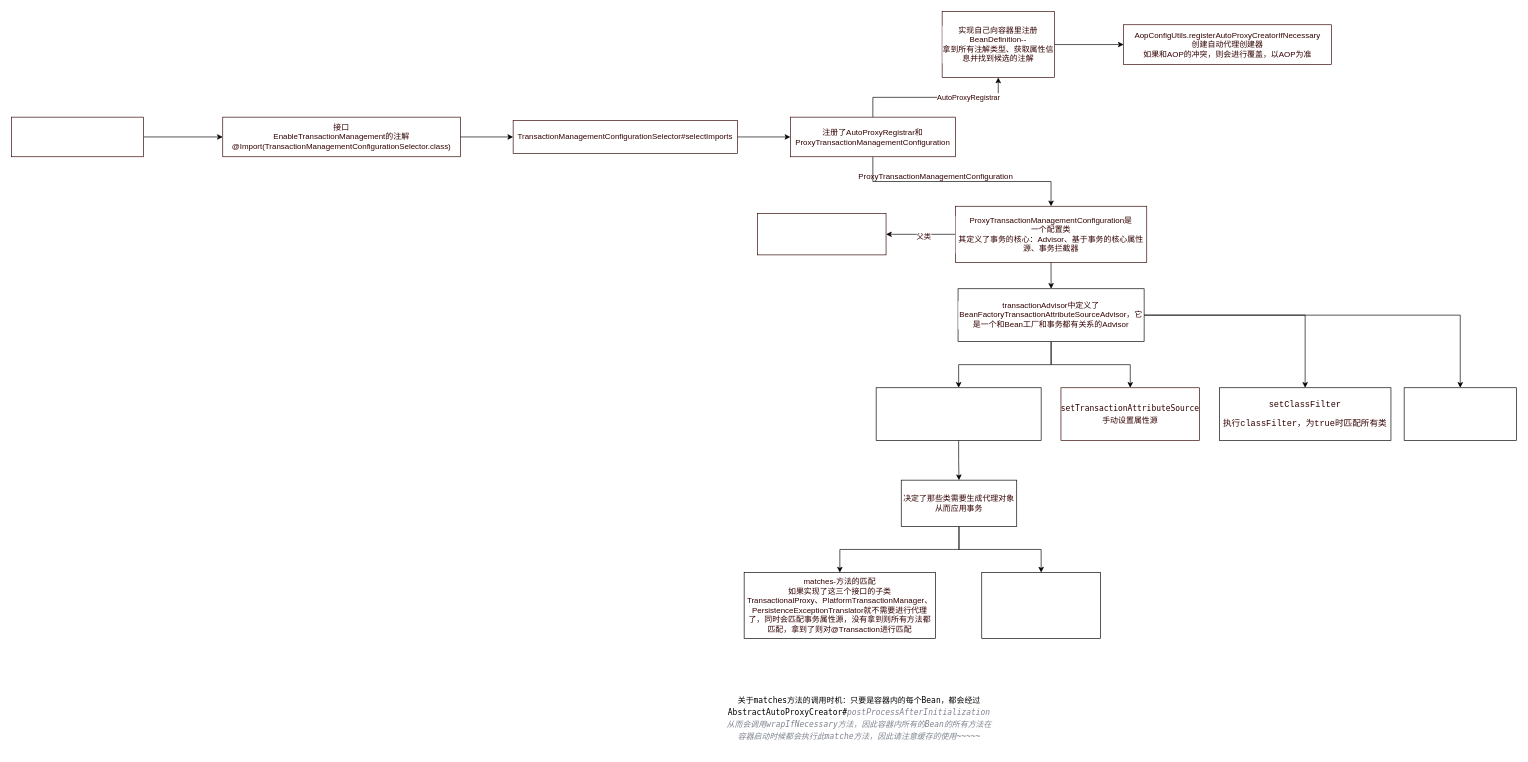
This 1528x762 diagram has some shape labels left out. The shapes that lost their labels are listed below. From the top down, each one's centre as x and y in pixels, then its label:
At (77,136): "入口 @EnableTransactionManagement".
At (821,234): "他的父类是一个抽象类 给注解一个默认的事务管理器并通过事件监听实现事务的监控".
At (958,414): "TransactionAttributeSourcePointcut切面".
At (1459,414): "getPointcut 就是使用这个切点去切入".
At (1041,605): "getTransactionAttributeSource- 获取事务属性源".
